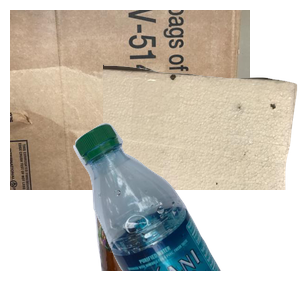cardboard: (10, 10, 250, 190)
glass: (88, 120, 252, 300)
plastic: (71, 120, 300, 300)
trash: (103, 62, 300, 242)
